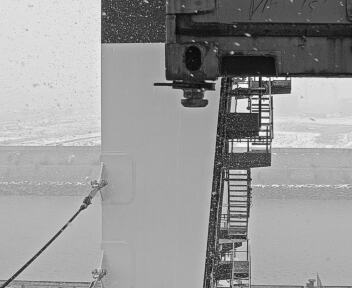twist_lock_1: (174, 144, 232, 192)
